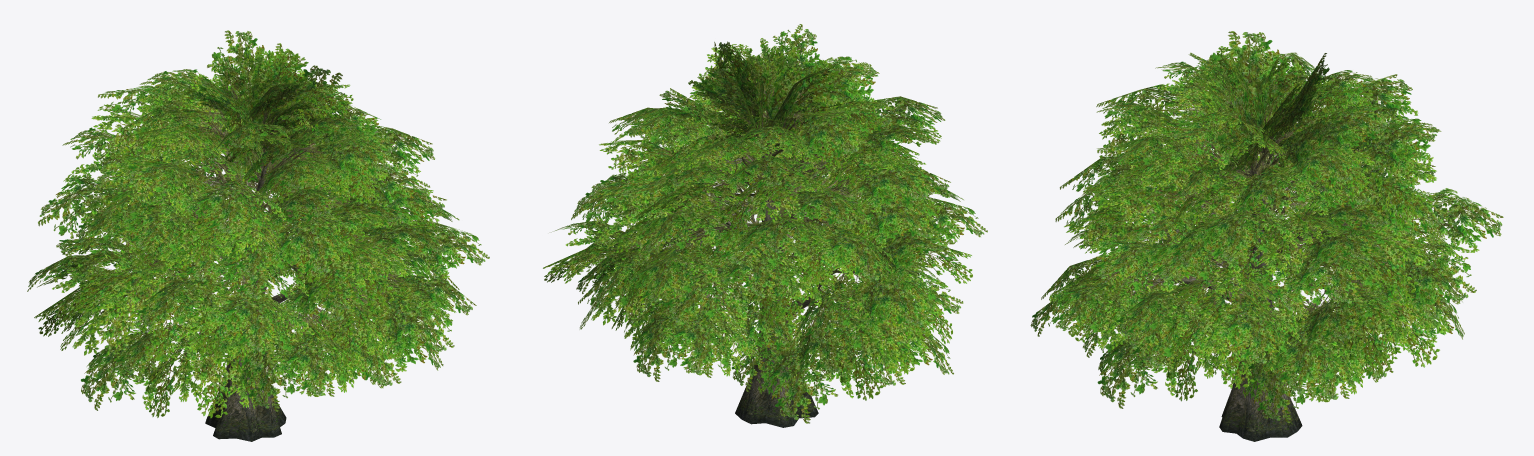
The model's file is ti_tree_legend.glb.
The picture shows the model from 3 angles, left to right: view 1: azimuth 30°, elevation 25°; view 2: azimuth 150°, elevation 25°; view 3: azimuth 270°, elevation 25°; orthographic projection. The views are drawn at different scales.
Parts seen in each view (by area): view 1: TI_Tree_Legend; view 2: TI_Tree_Legend; view 3: TI_Tree_Legend.
Part boxes in pixels (left/top/right/bottom): TI_Tree_Legend: left=27, top=30, right=489, bottom=441; TI_Tree_Legend: left=543, top=24, right=987, bottom=427; TI_Tree_Legend: left=1030, top=31, right=1503, bottom=441.
Size of the model in its own units: 13.36 by 11.81 by 13.4.
5 materials, 5 textured.
